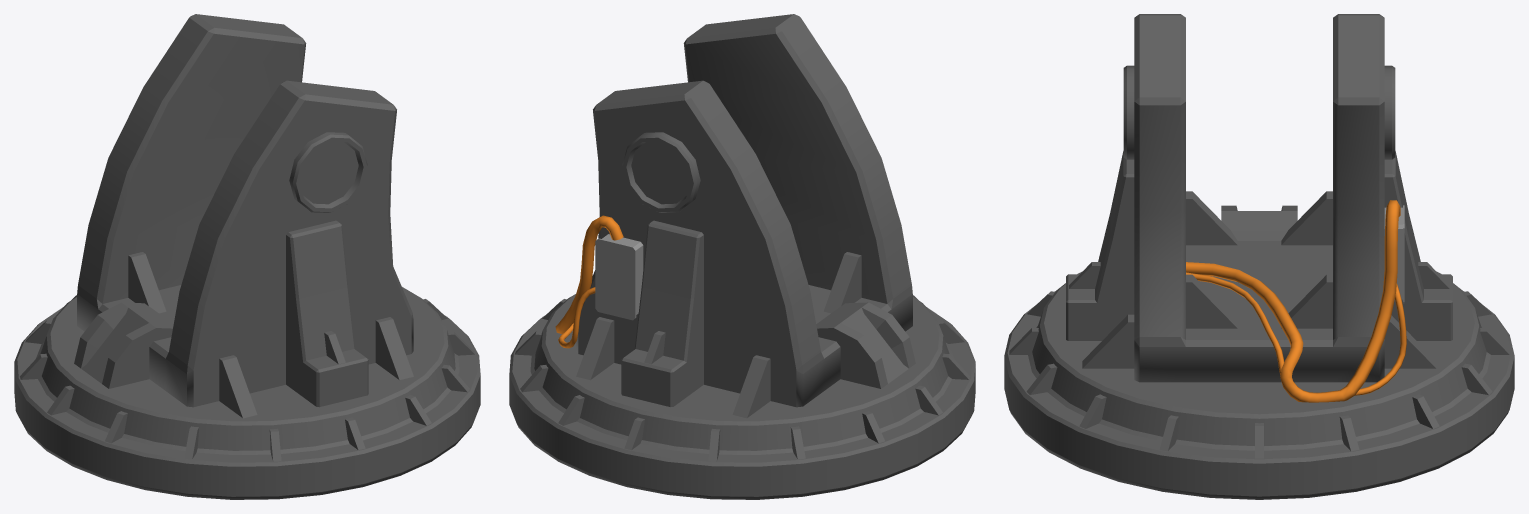
File: CraneJoint.fbx
3 views of the same model, side by side, from view 1: azimuth 30°, elevation 25°; view 2: azimuth 150°, elevation 25°; view 3: azimuth 270°, elevation 25° (orthographic). The views are drawn at different scales.
Parts seen in each view (by area): view 1: Swivel; view 2: Swivel; view 3: Swivel.
Boxes of the visible parts, x1,y1,x2,y2 form: Swivel: (14, 14, 480, 499); Swivel: (509, 14, 975, 499); Swivel: (1004, 14, 1514, 499).
Bounding box in the file's own units: 155 × 128 × 155.
